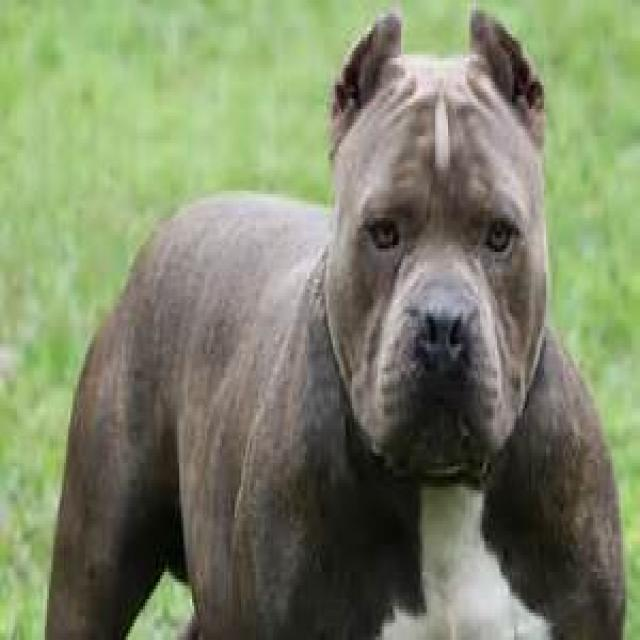animal: (47, 10, 627, 640)
